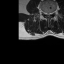CCS_stenosis: (47, 10, 49, 18)
LFS_normal: (51, 9, 53, 16)
LLS_normal: (49, 10, 51, 17)
RFS_normal: (43, 9, 45, 16)
RLS_normal: (45, 10, 47, 17)
